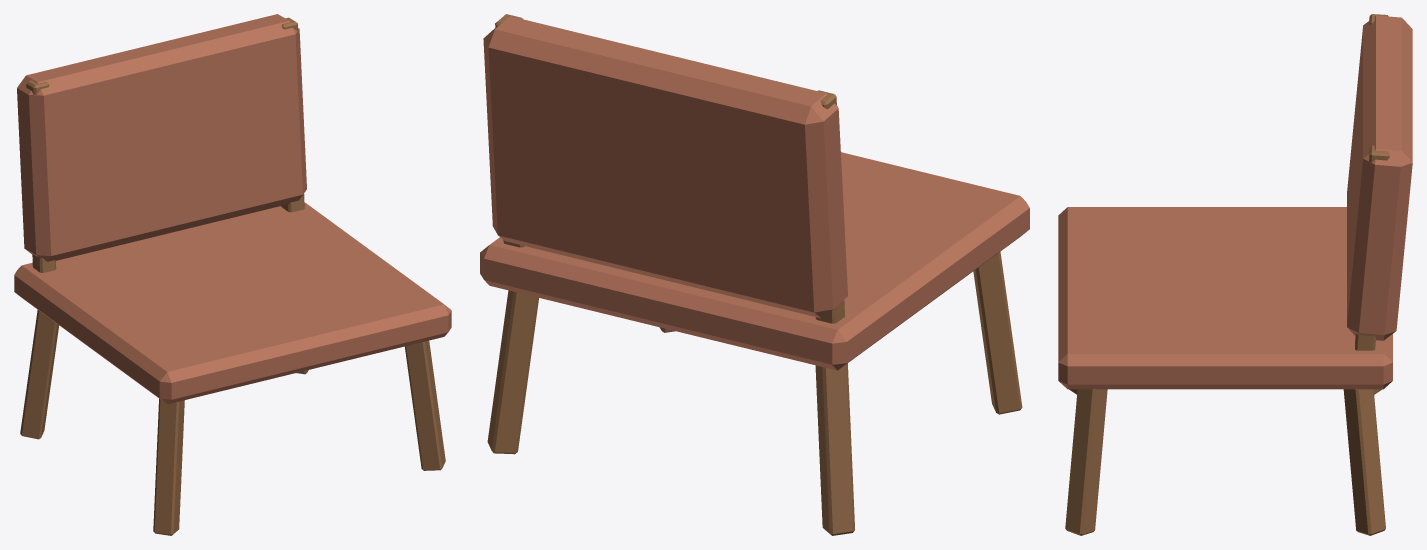
File: Chair_02_Comfort.fbx
The picture shows the model from 3 angles, left to right: view 1: azimuth 30°, elevation 25°; view 2: azimuth 150°, elevation 25°; view 3: azimuth 270°, elevation 25°; orthographic projection. The views are drawn at different scales.
Parts seen in each view (by area): view 1: Chair_02_Comfort; view 2: Chair_02_Comfort; view 3: Chair_02_Comfort.
Boxes of the visible parts, left/top/right/bottom form: Chair_02_Comfort: left=14, top=14, right=451, bottom=535; Chair_02_Comfort: left=480, top=14, right=1029, bottom=535; Chair_02_Comfort: left=1058, top=14, right=1412, bottom=535.
Bounding box in the file's own units: 235 × 269 × 228.
